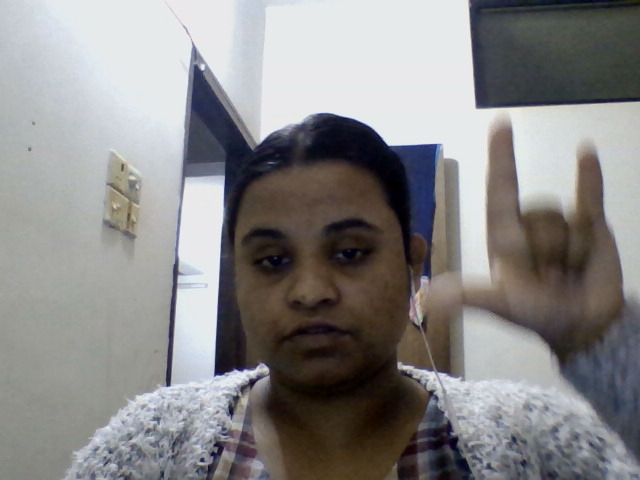I Love You: (390, 105, 640, 386)
